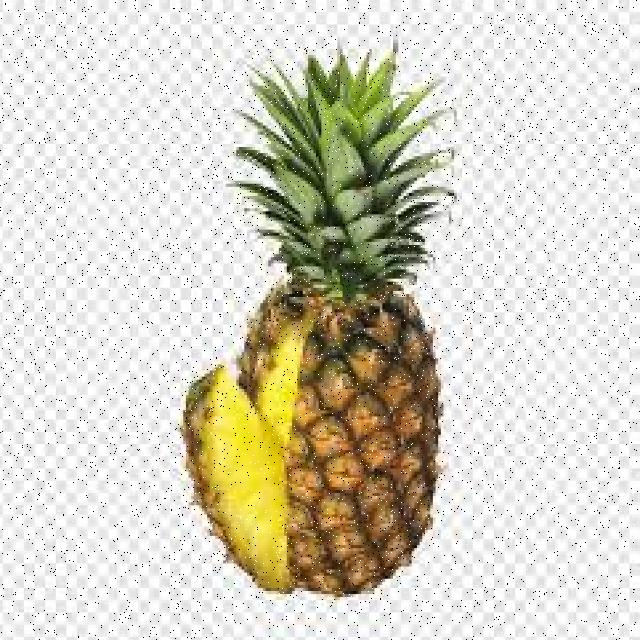Pineapple: (182, 41, 460, 595), (181, 368, 290, 596)
